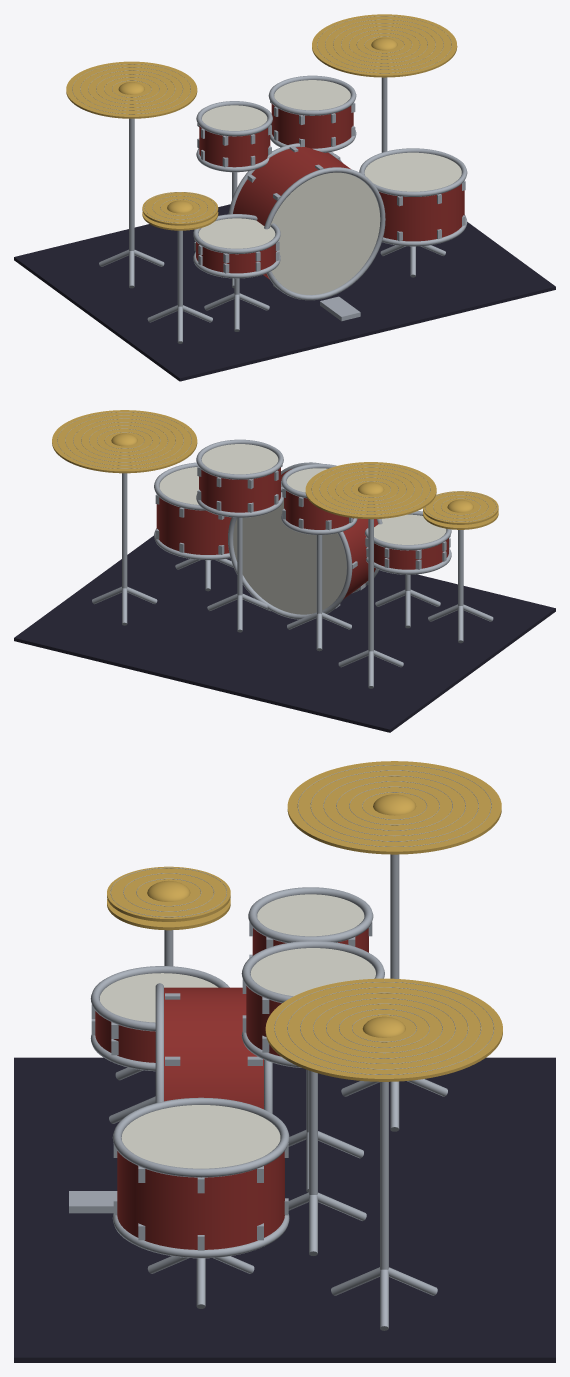
3 views of the same model, one above another, from view 1: azimuth 30°, elevation 25°; view 2: azimuth 150°, elevation 25°; view 3: azimuth 270°, elevation 25° (orthographic). The views are drawn at different scales.
Size of the model in its own units: 2.56 by 1.25 by 1.93.
